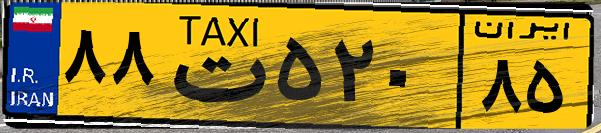0: (385, 28, 445, 110)
2: (330, 28, 385, 110)
5: (270, 28, 330, 110), (525, 38, 570, 115)
8: (57, 26, 110, 100), (475, 38, 525, 113), (110, 28, 158, 98)
ت: (158, 12, 270, 120)
